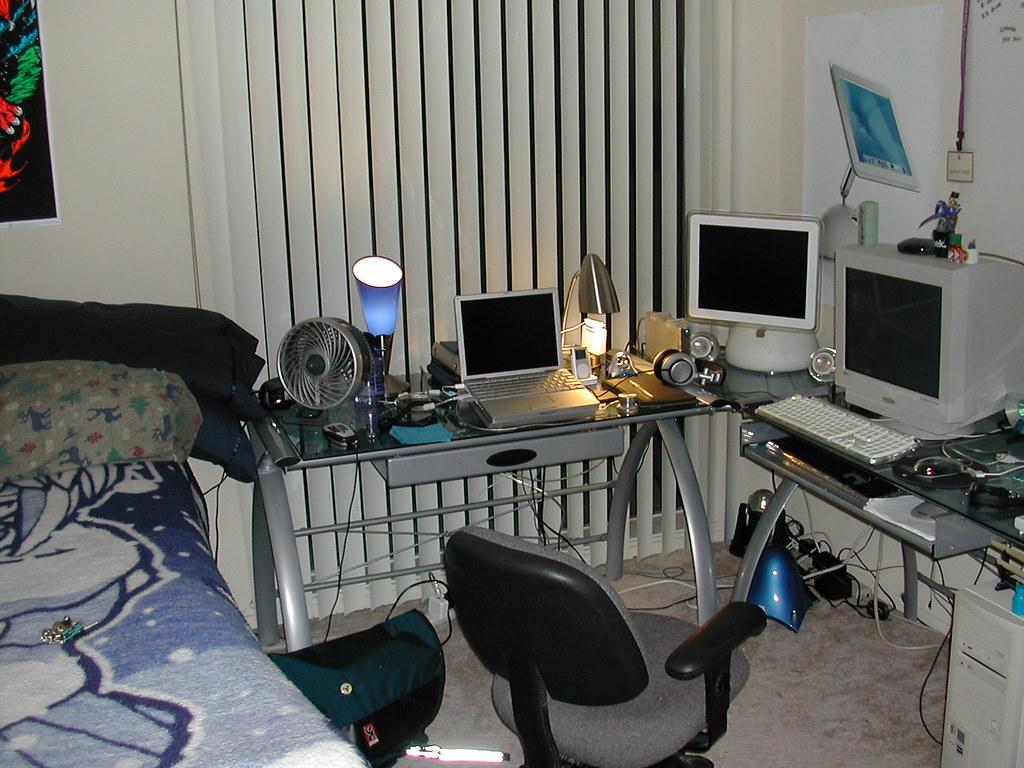computer: (833, 242, 1024, 439), (685, 209, 824, 375), (454, 287, 601, 430), (939, 579, 1024, 768)
